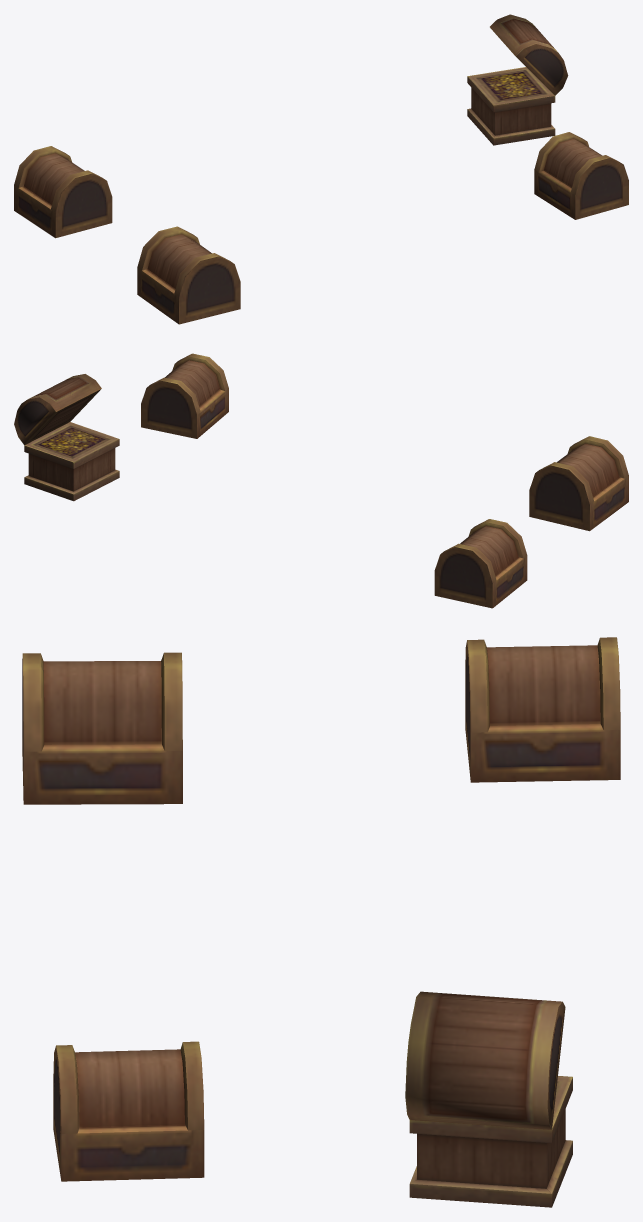
File: wujian56.fbx
3 renders of one model, top to bottom at view 1: azimuth 30°, elevation 25°; view 2: azimuth 150°, elevation 25°; view 3: azimuth 270°, elevation 25°, orthographic. The views are drawn at different scales.
Parts seen in each view (by area): view 1: wujian56; view 2: wujian56; view 3: wujian56.
Part boxes in pixels (box(x1,y1,x2,y2)): wujian56: box(14, 14, 628, 324); wujian56: box(14, 353, 628, 608); wujian56: box(22, 637, 620, 1207).
Size of the model in its own units: 1286 by 229 by 673.
Materials: 1 (1 with a texture image).
